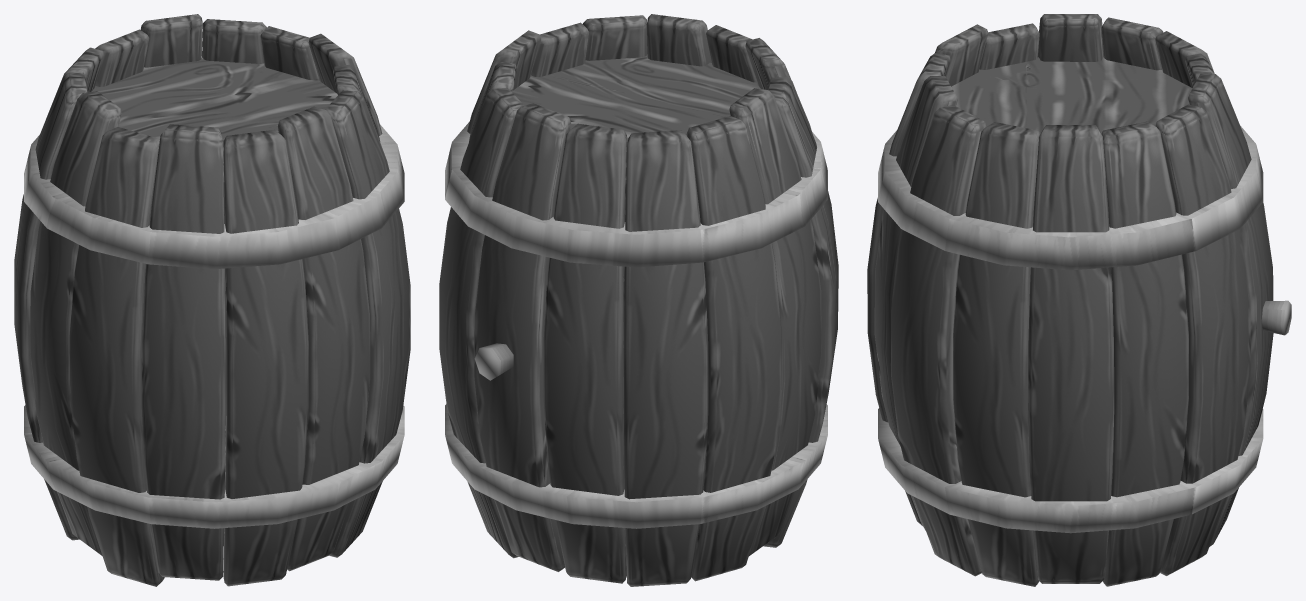
Rendered from SM_Barrel.FBX.
The picture shows the model from 3 angles, left to right: view 1: azimuth 30°, elevation 25°; view 2: azimuth 150°, elevation 25°; view 3: azimuth 270°, elevation 25°; orthographic projection.
Parts seen in each view (by area): view 1: Cylinder001; view 2: Cylinder001; view 3: Cylinder001.
Part boxes in pixels (x1,y1,x2,y2): Cylinder001: (14,14,410,586); Cylinder001: (439,14,838,586); Cylinder001: (867,14,1291,586).
Bounding box in the file's own units: 295 × 381 × 315.
